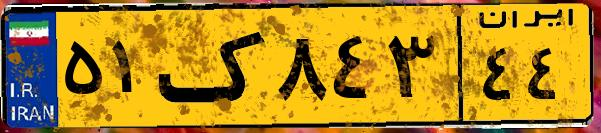1: (110, 28, 158, 98)
3: (385, 28, 445, 110)
4: (330, 28, 385, 110), (475, 38, 525, 113), (525, 38, 570, 115)
5: (57, 26, 110, 100)
8: (270, 28, 330, 110)
ک: (158, 12, 270, 120)
